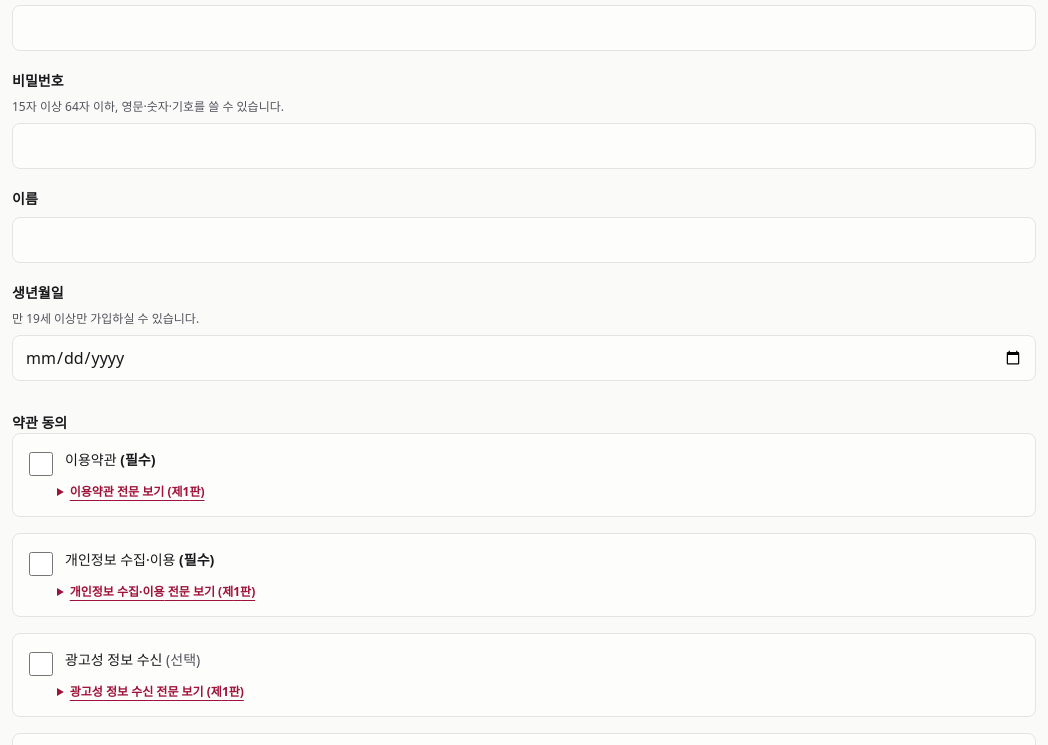
Test: 가입 화면 › 필수 동의가 빠지면 › 필수를 다 켜면 눌린다
This screenshot has width=1048, height=745.
Click the checkbox labelled "이용약관 (필수)" at (41, 464), box [29,452,53,476]
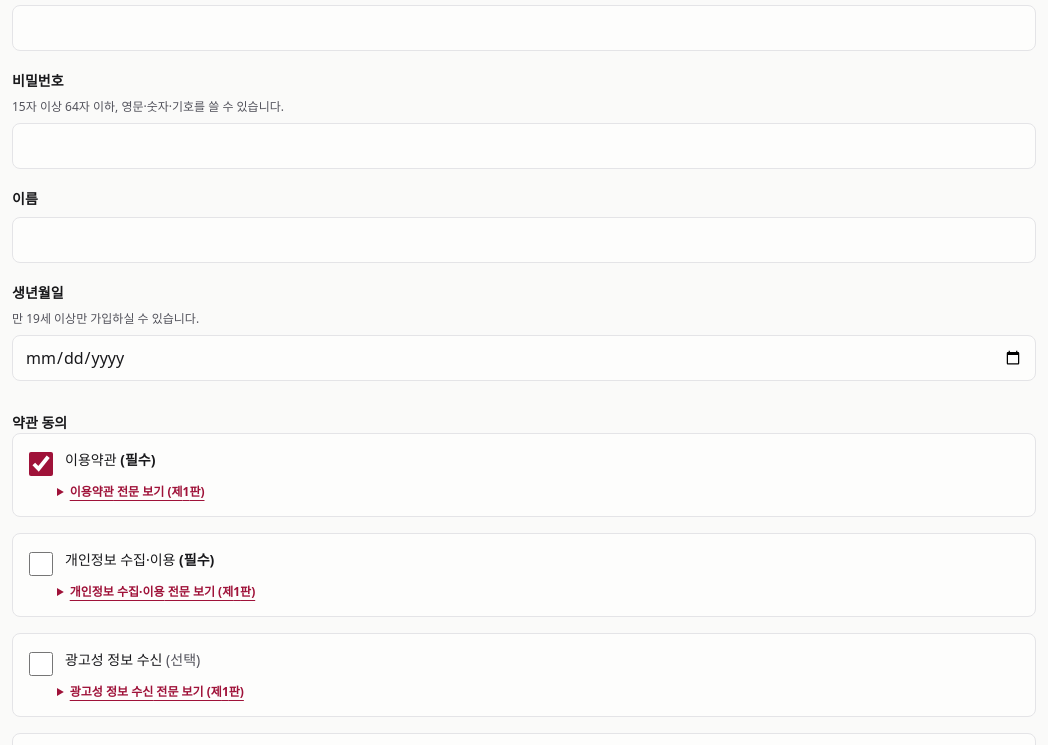
Click the checkbox labelled "개인정보 수집·이용 (필수)" at (41, 564), box [29,552,53,576]
(page scrolled)
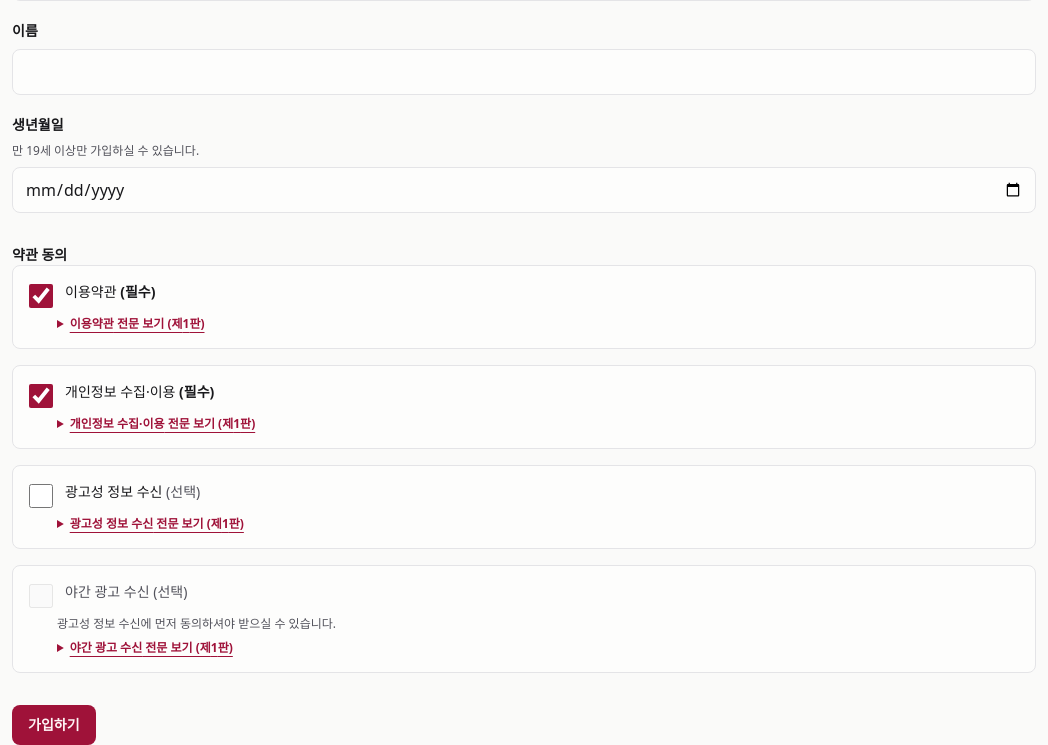
Expected: the button "가입하기" is enabled, [12,705,96,744]
